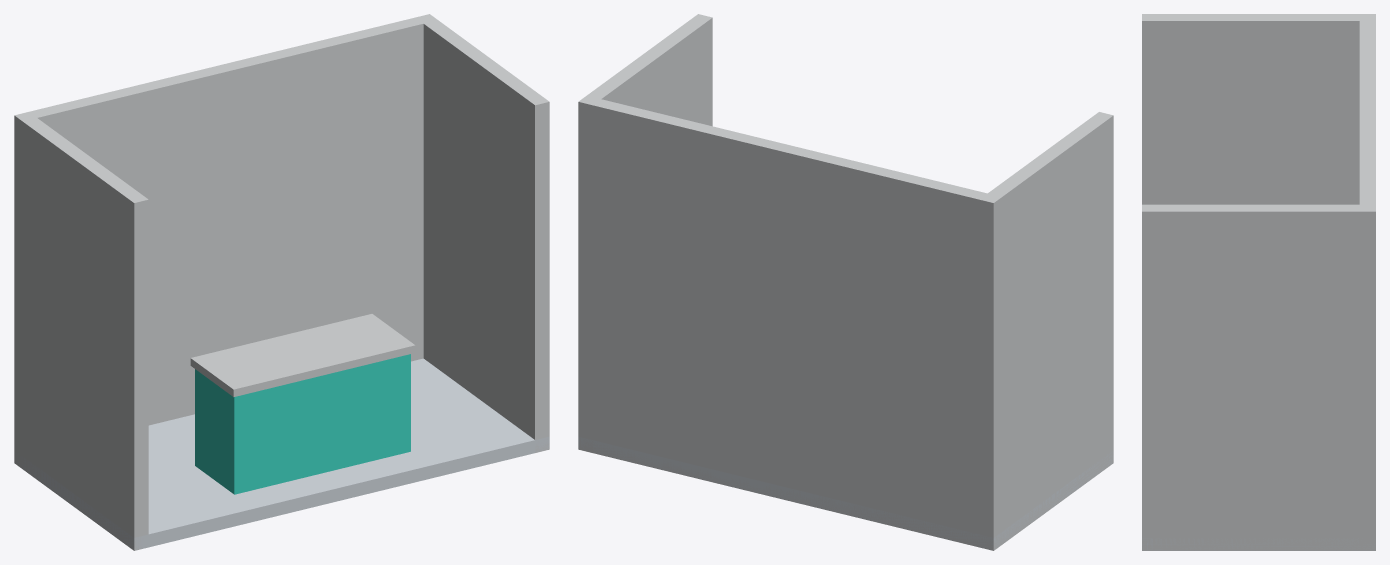
3 views of the same model, side by side, from view 1: azimuth 30°, elevation 25°; view 2: azimuth 150°, elevation 25°; view 3: azimuth 270°, elevation 25° (orthographic). The views are drawn at different scales.
Parts seen in each view (by area): view 1: Exhibition Booth Concept; view 2: Exhibition Booth Concept; view 3: Exhibition Booth Concept.
Part boxes in pixels (box(x1,y1,x2,y2)): Exhibition Booth Concept: box(14, 14, 549, 550); Exhibition Booth Concept: box(578, 14, 1113, 550); Exhibition Booth Concept: box(1142, 14, 1375, 550).
Bounding box in the file's own units: 4 × 3.2 × 2.
